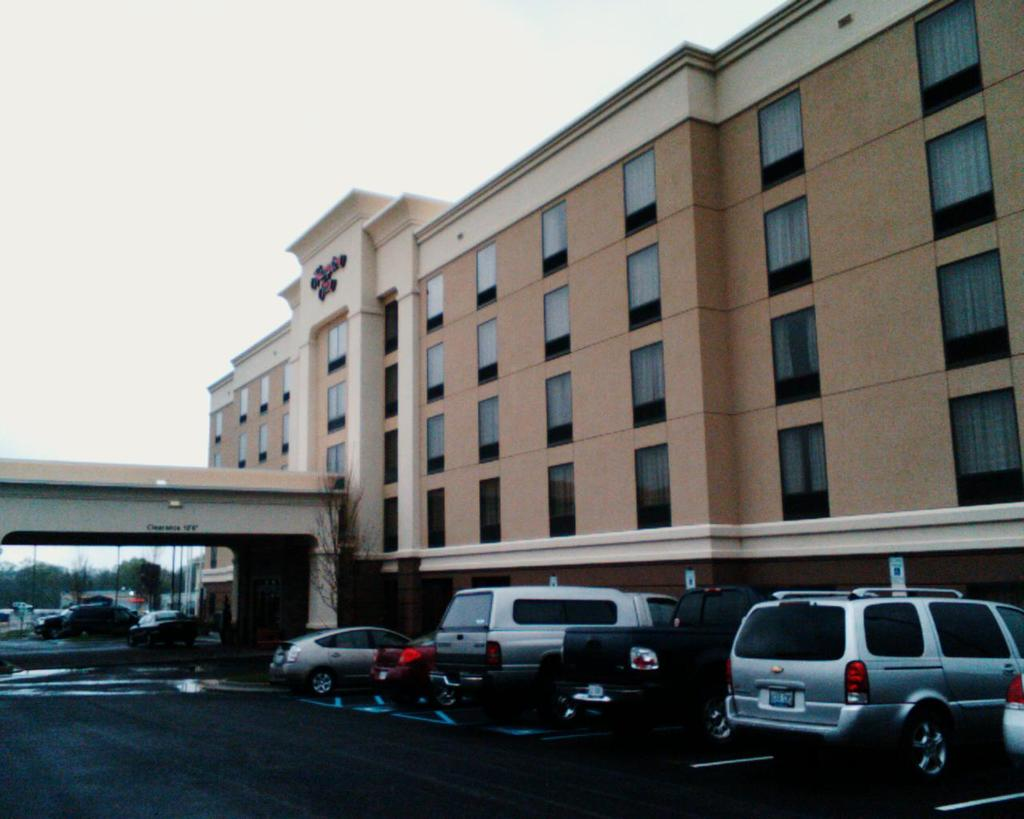mobil: (722, 586, 1024, 751), (564, 579, 766, 720), (267, 619, 418, 693)
